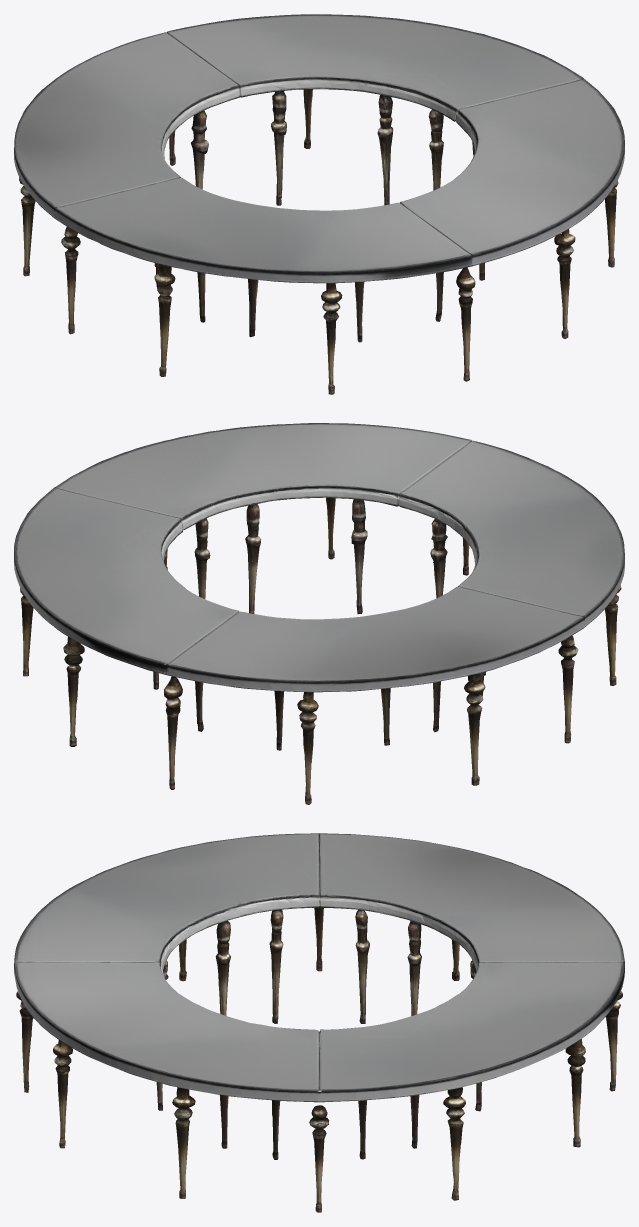
The model's file is table3.glb.
The picture shows the model from 3 angles, top to bottom: view 1: azimuth 30°, elevation 25°; view 2: azimuth 150°, elevation 25°; view 3: azimuth 270°, elevation 25°; orthographic projection.
Parts seen in each view (by area): view 1: world; view 2: world; view 3: world.
Part boxes in pixels (x1,y1,x2,y2): world: (14, 14, 624, 394); world: (14, 423, 624, 804); world: (14, 833, 624, 1212).
Size of the model in its own units: 1 by 0.236 by 1.
1 material, 1 textured.
